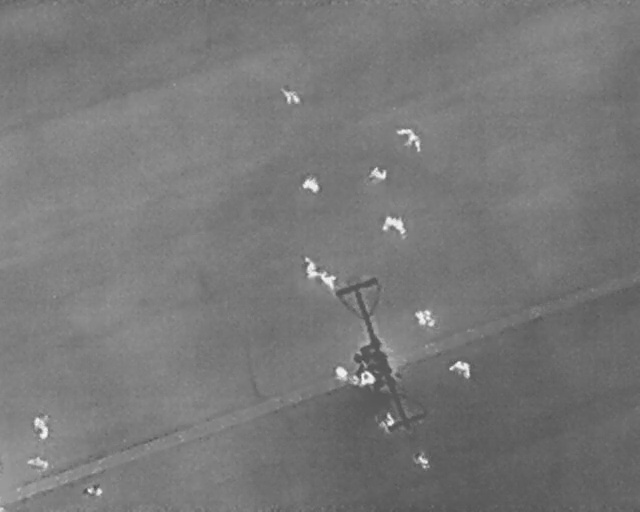Person: (392, 120, 427, 157), (378, 210, 413, 243), (279, 83, 301, 107), (413, 309, 436, 328), (303, 255, 320, 280), (449, 360, 471, 378), (34, 416, 48, 441), (368, 166, 388, 183), (414, 450, 430, 471), (320, 270, 336, 290), (302, 177, 320, 194), (359, 370, 376, 387), (80, 485, 102, 497), (334, 365, 349, 381), (386, 410, 396, 428)
